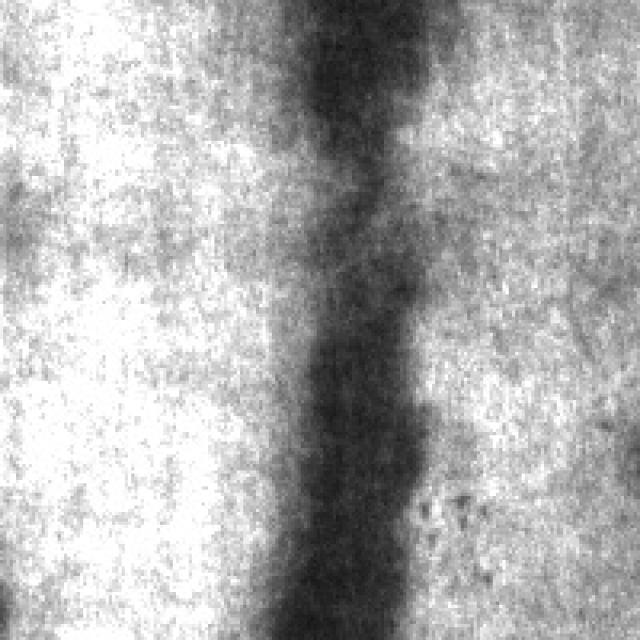patches: (294, 237, 429, 637), (285, 0, 454, 163)
